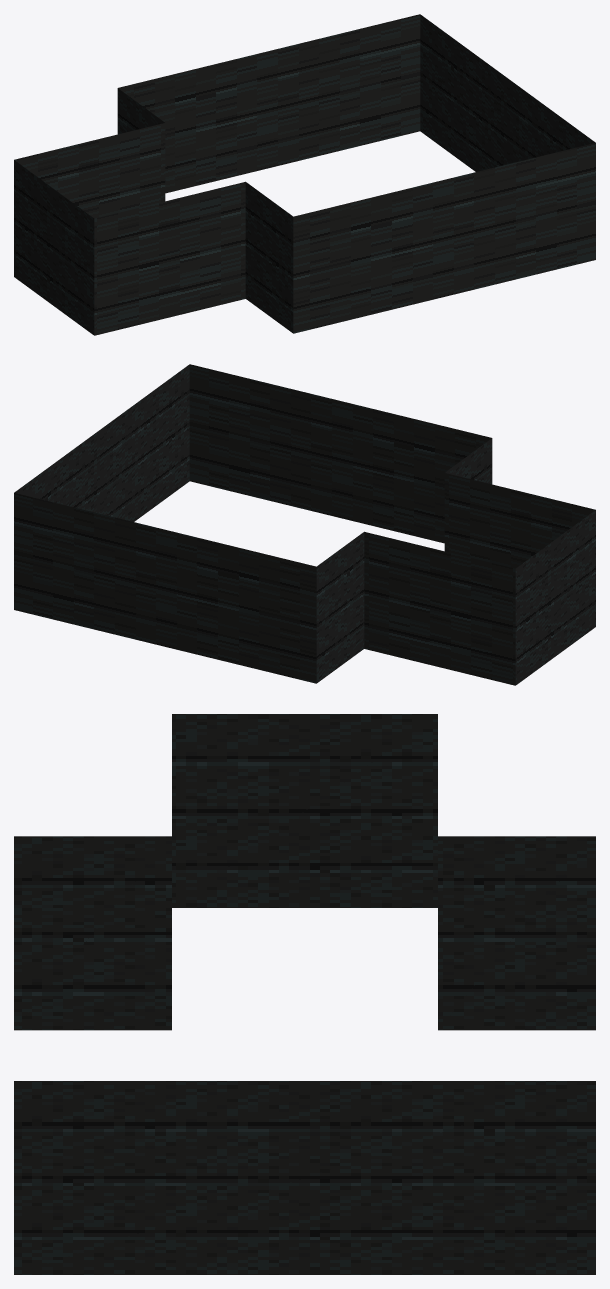
Rendered from blenderDefault.glb.
The picture shows the model from 3 angles, top to bottom: view 1: azimuth 30°, elevation 25°; view 2: azimuth 150°, elevation 25°; view 3: azimuth 270°, elevation 25°; orthographic projection. The views are drawn at different scales.
Parts seen in each view (by area): view 1: Plane; view 2: Plane; view 3: Plane.
Part boxes in pixels (bbox=[...]): Plane: bbox=[14, 14, 595, 335]; Plane: bbox=[14, 364, 595, 685]; Plane: bbox=[14, 714, 595, 1274].
Size of the model in its own units: 15.92 by 3.93 by 10.68.
1 material, 1 textured.
